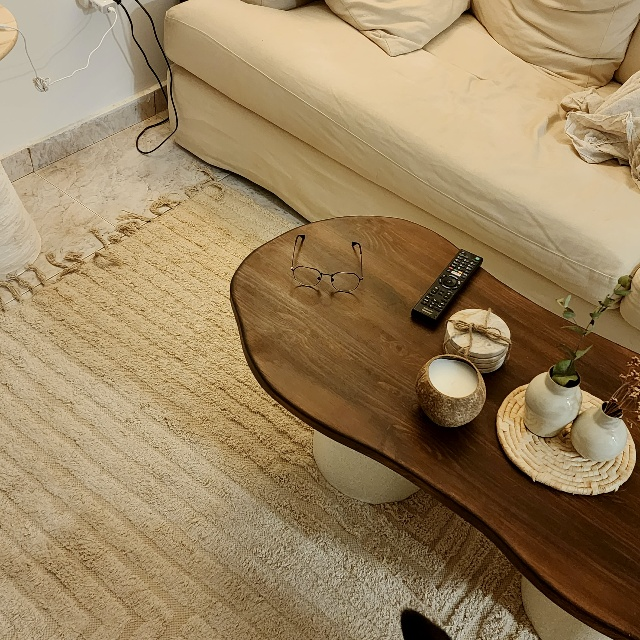glasses: (288, 231, 369, 293)
